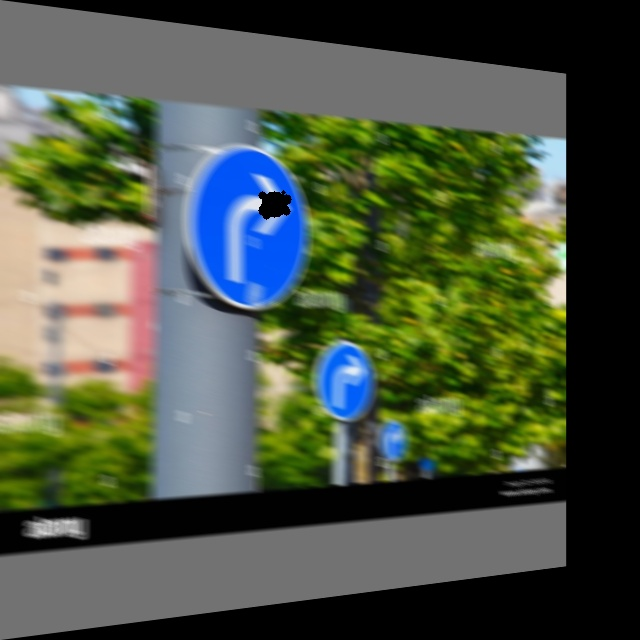Compulsory_Turn_Right_Ahead: (189, 142, 303, 308)
